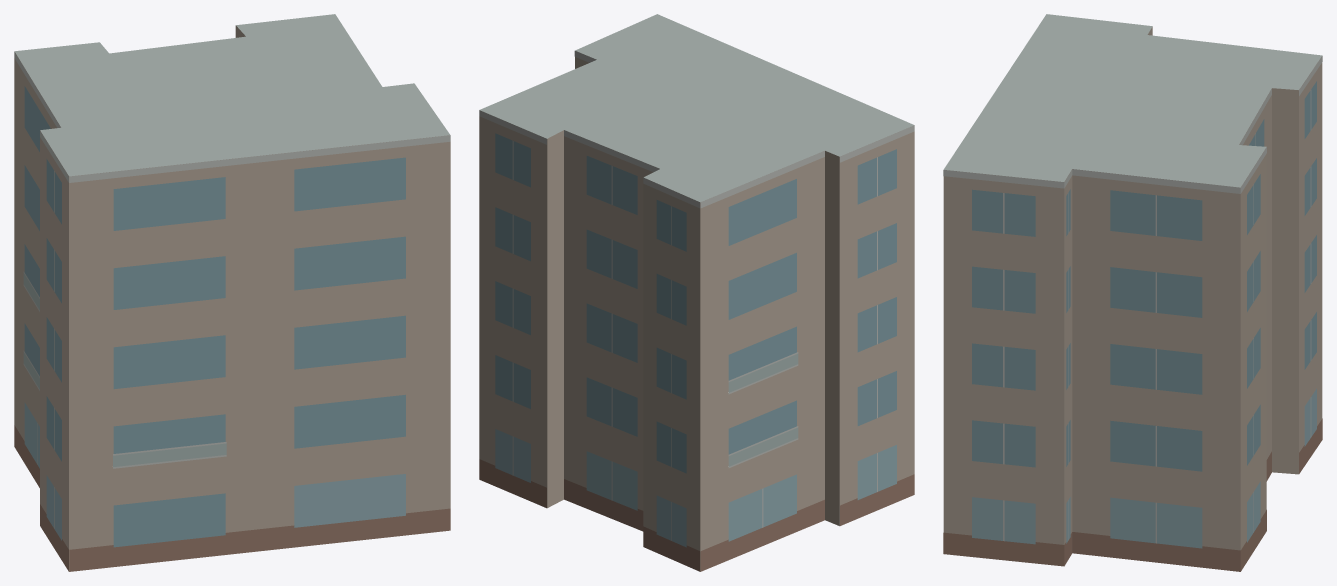
Rendered from survey-upis-32952472.glb.
The picture shows the model from 3 angles, left to right: view 1: azimuth 30°, elevation 25°; view 2: azimuth 150°, elevation 25°; view 3: azimuth 270°, elevation 25°; orthographic projection. The views are drawn at different scales.
Visible parts, largest first — view 1: survey-upis-32952472.tmp; view 2: survey-upis-32952472.tmp; view 3: survey-upis-32952472.tmp.
Boxes of the visible parts, left/top/right/bottom form: survey-upis-32952472.tmp: left=14, top=14, right=450, bottom=571; survey-upis-32952472.tmp: left=479, top=14, right=914, bottom=571; survey-upis-32952472.tmp: left=943, top=14, right=1322, bottom=571.
Size of the model in its own units: 14.15 by 14.6 by 13.06.
